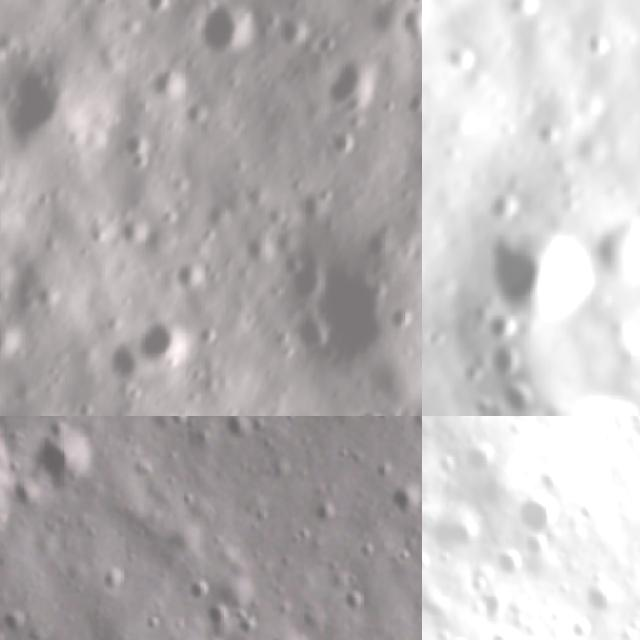crater: (474, 209, 598, 328), (180, 0, 277, 83), (317, 48, 396, 133), (23, 417, 100, 489), (587, 199, 640, 294), (130, 316, 189, 372), (511, 494, 564, 545), (478, 335, 528, 388), (474, 304, 522, 348), (463, 440, 504, 480), (386, 478, 422, 519), (492, 545, 530, 583), (584, 578, 621, 616), (422, 0, 501, 17), (0, 601, 34, 638), (220, 416, 257, 447), (338, 585, 371, 618), (536, 465, 568, 499), (523, 532, 549, 564), (566, 616, 600, 640), (478, 594, 509, 620), (314, 499, 338, 530), (467, 570, 492, 598), (578, 499, 603, 526), (487, 627, 525, 640)
